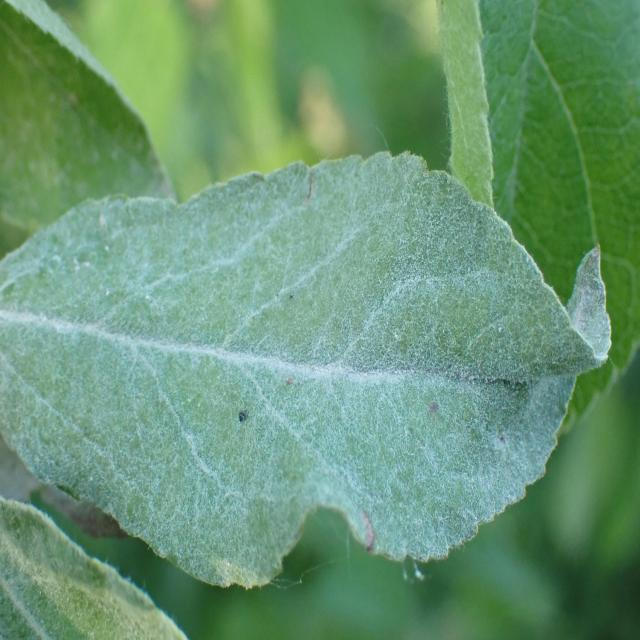Powdery_mildew: (5, 151, 617, 585), (1, 0, 187, 257), (0, 495, 219, 640)
